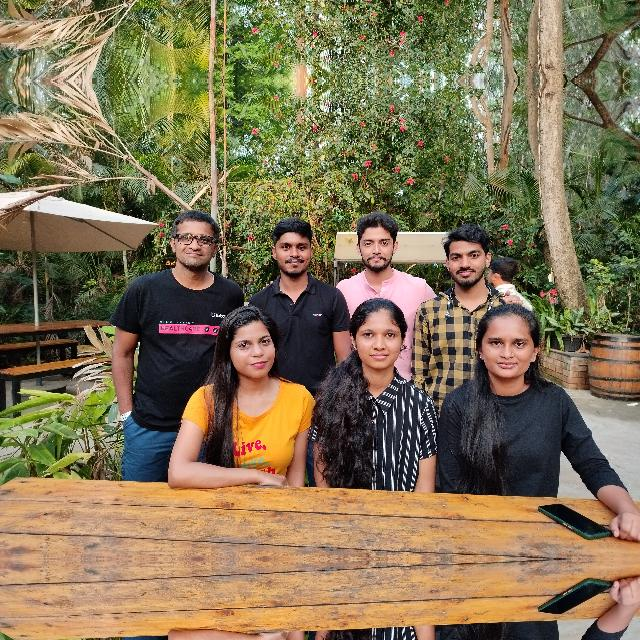person: (443, 295, 589, 509), (180, 302, 312, 512), (118, 192, 226, 432), (318, 294, 438, 496), (260, 206, 344, 366), (424, 214, 501, 374), (329, 210, 421, 318), (180, 605, 312, 640), (443, 609, 589, 640), (318, 622, 438, 640)
